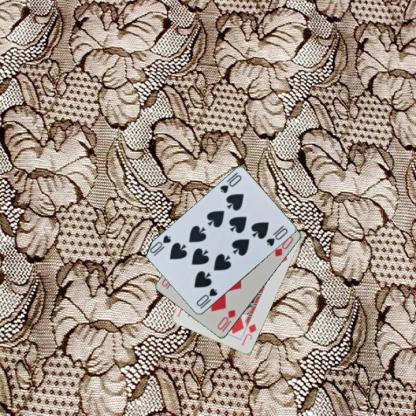10d: (214, 307, 237, 333)
10s: (194, 286, 219, 310), (217, 172, 243, 195)
Jd: (238, 321, 258, 347)
